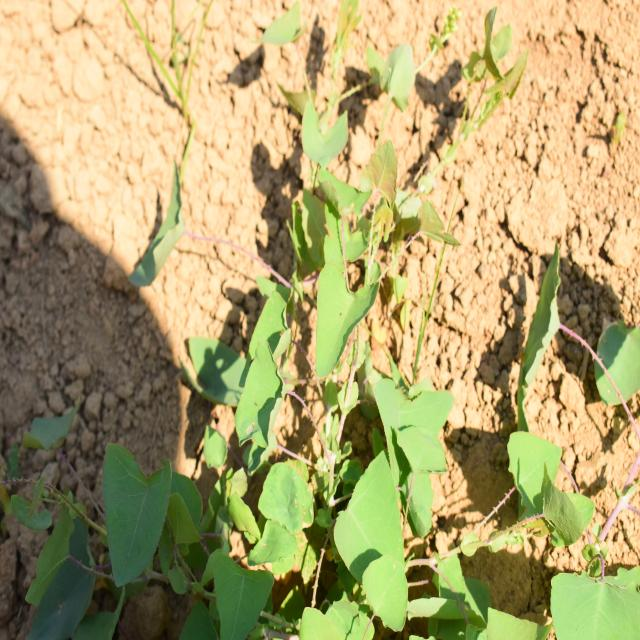Asiatic_Smartweed: (230, 180, 434, 636), (82, 424, 209, 626)
